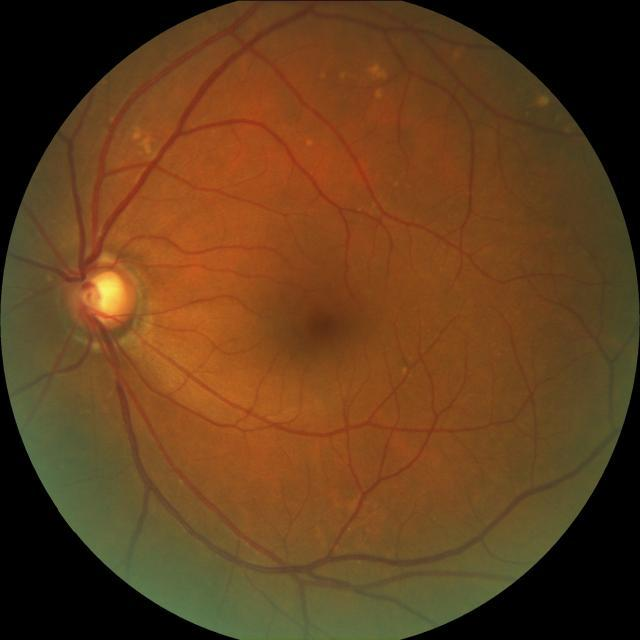OC: (80, 266, 130, 321)
OD: (66, 252, 142, 332)
